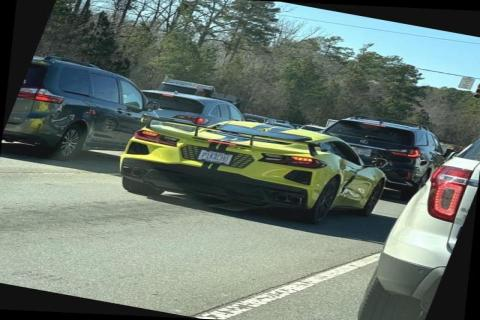LicensePlate: (194, 147, 233, 166)
